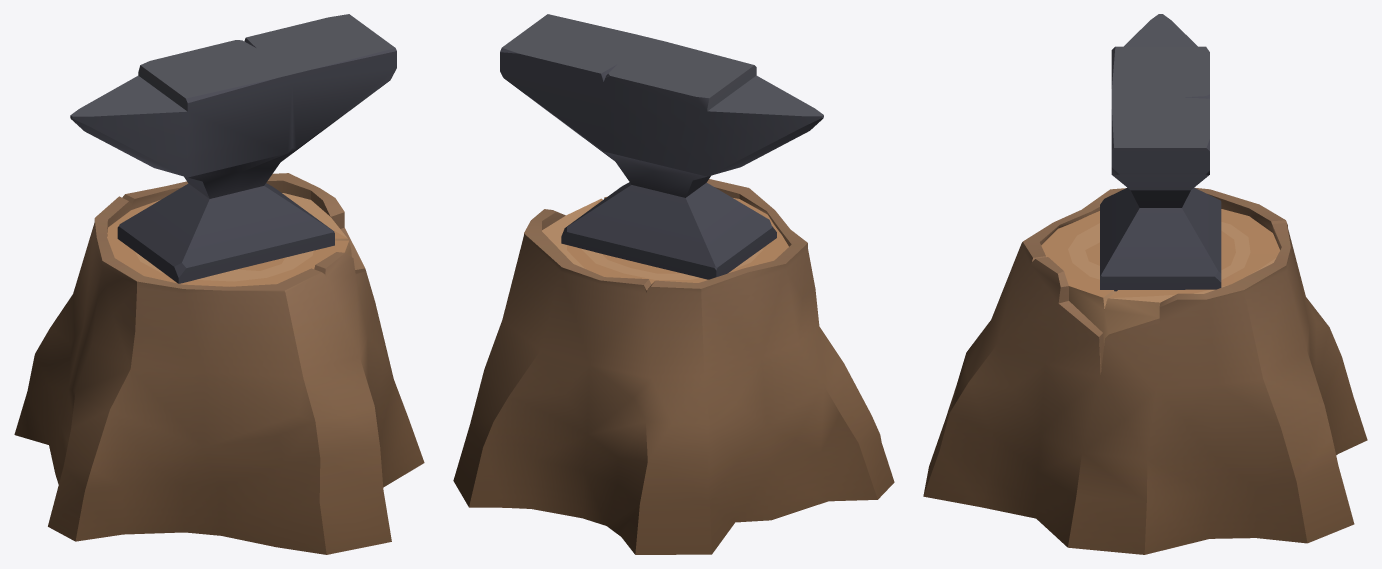
File: Blacksmith_01.glb
The picture shows the model from 3 angles, left to right: view 1: azimuth 30°, elevation 25°; view 2: azimuth 150°, elevation 25°; view 3: azimuth 270°, elevation 25°; orthographic projection.
Visible parts, largest first — view 1: Blacksmith_01_LOD0; view 2: Blacksmith_01_LOD0; view 3: Blacksmith_01_LOD0.
Boxes of the visible parts, x1=… form: Blacksmith_01_LOD0: x1=14, y1=14, x2=424, y2=554; Blacksmith_01_LOD0: x1=453, y1=14, x2=894, y2=554; Blacksmith_01_LOD0: x1=923, y1=14, x2=1367, y2=554.
Size of what is drawn, in the model's own units: 0.9328 by 0.9906 by 1.
1 material, 1 textured.
